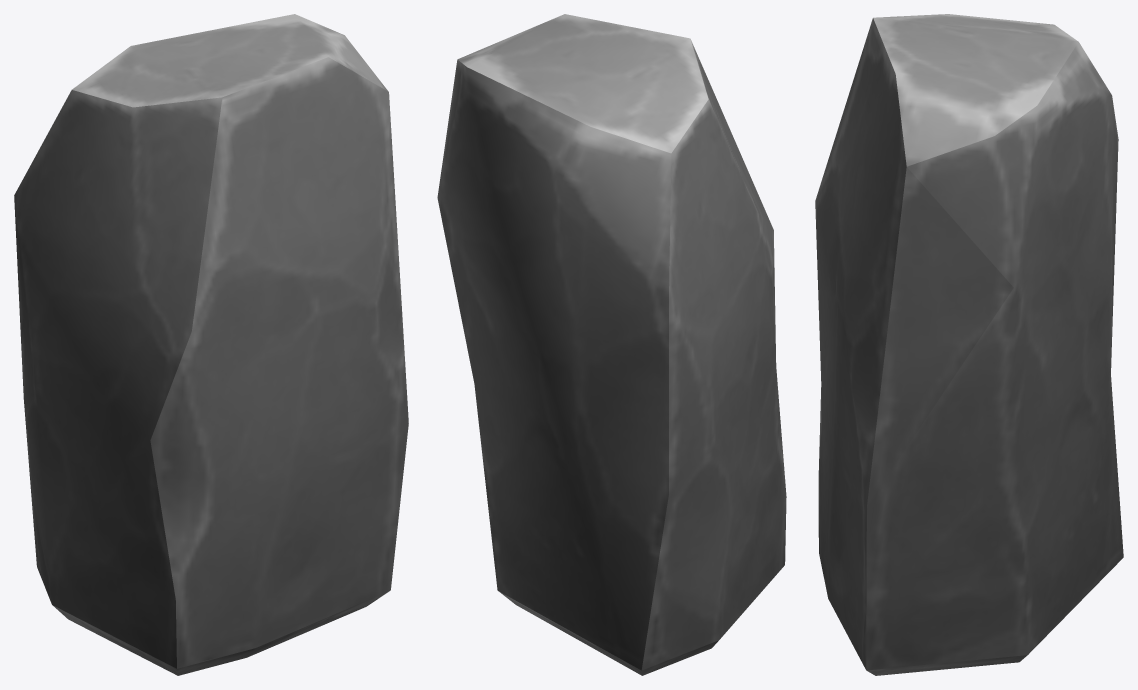
File: SM_Rocks_09.obj
3 renders of one model, left to right at view 1: azimuth 30°, elevation 25°; view 2: azimuth 150°, elevation 25°; view 3: azimuth 270°, elevation 25°, orthographic. The views are drawn at different scales.
Visible parts, largest first — view 1: SM_Rocks_09; view 2: SM_Rocks_09; view 3: SM_Rocks_09.
Boxes of the visible parts, x1,y1,x2,y2 form: SM_Rocks_09: [14, 14, 408, 675]; SM_Rocks_09: [437, 14, 786, 675]; SM_Rocks_09: [815, 14, 1123, 675].
Bounding box in the file's own units: 0.879 × 1.59 × 0.7441.
Materials: 1 (1 with a texture image).
